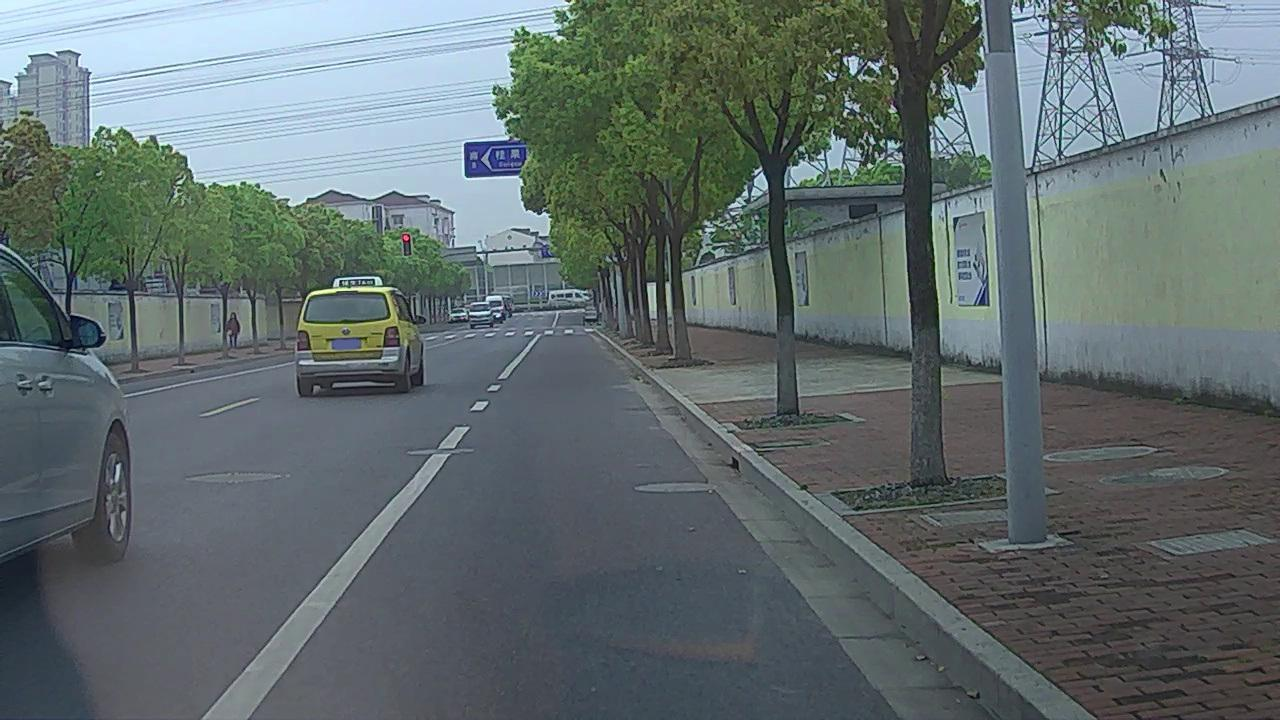traffic_light: (402, 234, 411, 256)
